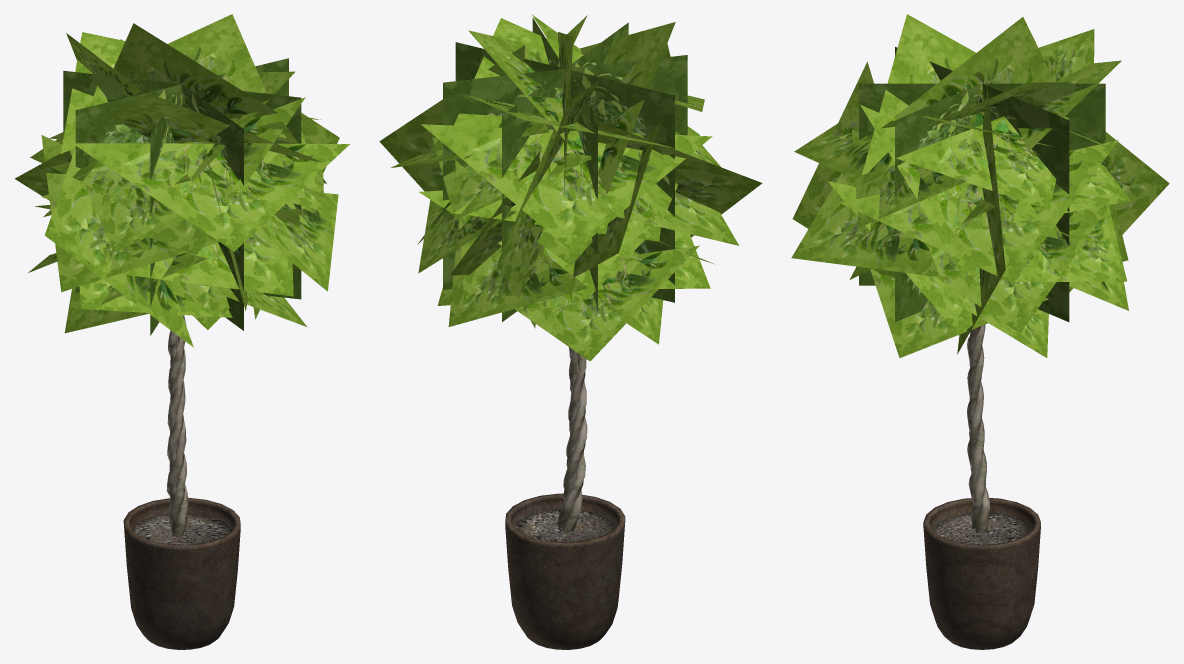
File: Furniture_foliageplant_07b_LOD0 #39148.fbx
3 renders of one model, left to right at view 1: azimuth 30°, elevation 25°; view 2: azimuth 150°, elevation 25°; view 3: azimuth 270°, elevation 25°, orthographic. The views are drawn at different scales.
Parts seen in each view (by area): view 1: F_foliageplant_07b_2, F_foliageplant_07b_4, F_foliageplant_07b_1; view 2: F_foliageplant_07b_2, F_foliageplant_07b_4, F_foliageplant_07b_1; view 3: F_foliageplant_07b_2, F_foliageplant_07b_4, F_foliageplant_07b_1.
Part boxes in pixels (box(x1,y1,x2,y2)): F_foliageplant_07b_2: box(15, 14, 349, 347); F_foliageplant_07b_4: box(123, 497, 240, 649); F_foliageplant_07b_1: box(166, 315, 190, 536); F_foliageplant_07b_2: box(379, 14, 762, 361); F_foliageplant_07b_4: box(505, 493, 625, 649); F_foliageplant_07b_1: box(557, 347, 587, 532); F_foliageplant_07b_2: box(791, 14, 1169, 357); F_foliageplant_07b_4: box(923, 498, 1040, 649); F_foliageplant_07b_1: box(967, 324, 991, 533).
Size of the model in its own units: 1.18 by 2.03 by 1.15.
Materials: 2 (2 with a texture image).
